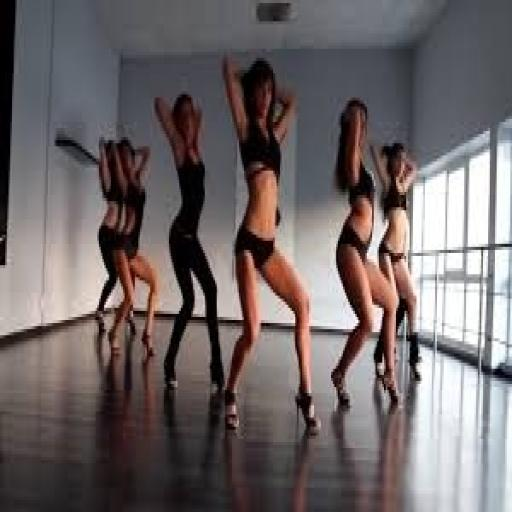dancing: (218, 49, 322, 442), (328, 94, 402, 414), (152, 88, 227, 400)
